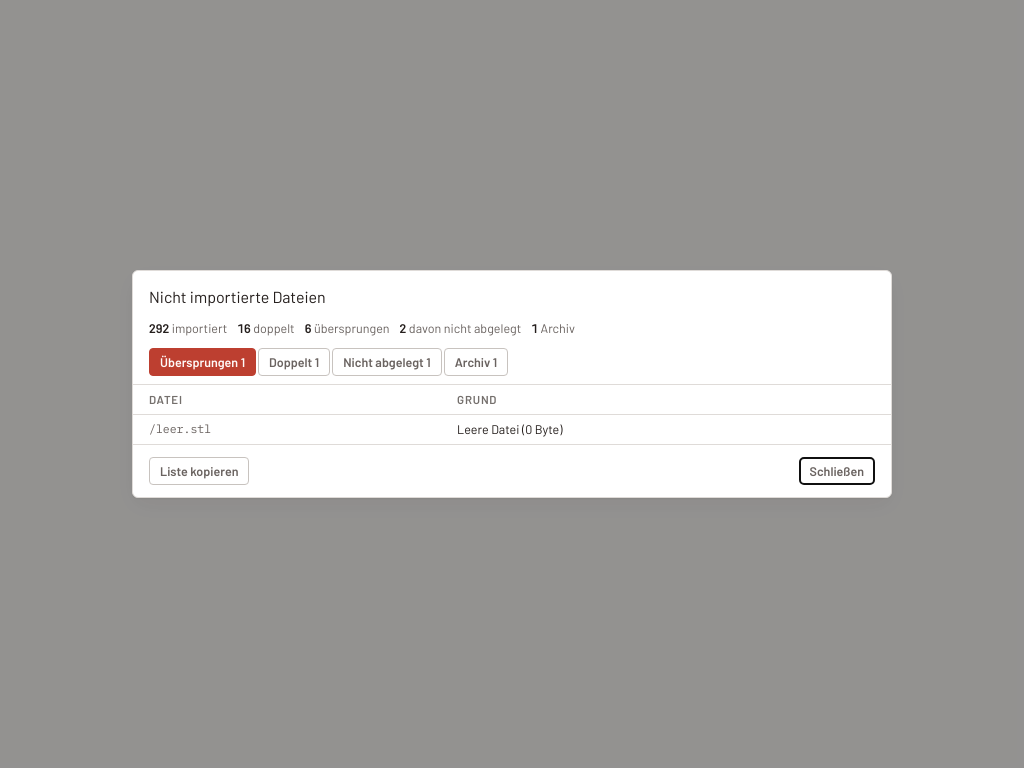
Test: shows 2 extracted non-model files in the archive group
Click the tab "Archiv 1". click: (476, 362)
box: [444,348,508,376]
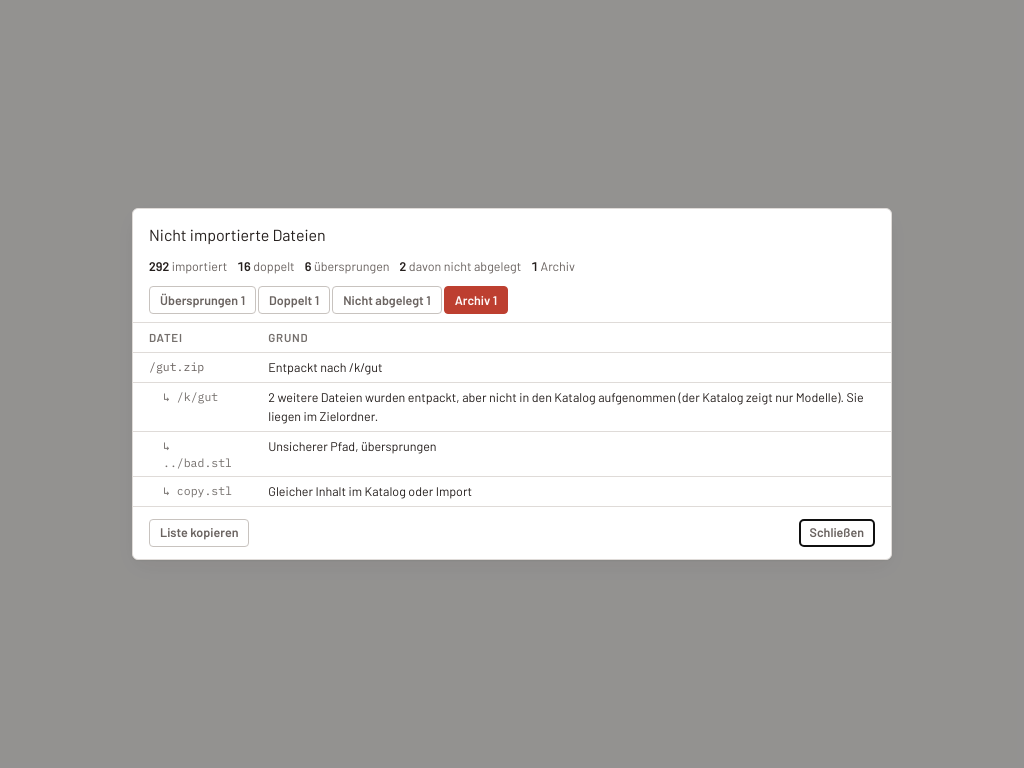
Check: the text "2 weitere Dateien wurden entpackt" is shown, box [268,389,864,424]
